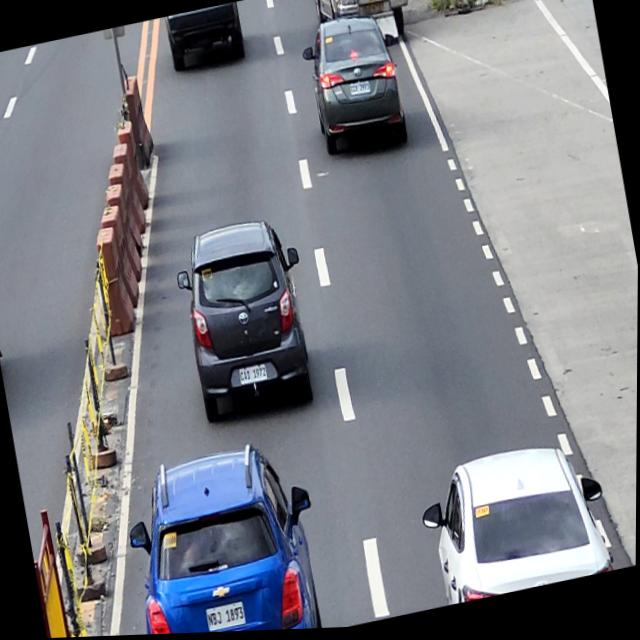Car: (116, 433, 334, 637), (414, 436, 618, 611), (168, 212, 324, 428), (297, 9, 409, 163), (163, 3, 246, 74)
Jeep: (311, 0, 414, 61)
License-Plate: (204, 600, 247, 633), (238, 364, 269, 387), (349, 82, 371, 99)
